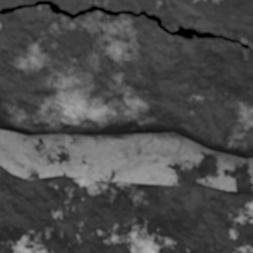brick: (0, 6, 252, 157), (0, 167, 252, 252), (52, 0, 252, 46), (0, 0, 35, 8)
crack: (0, 0, 252, 50)
